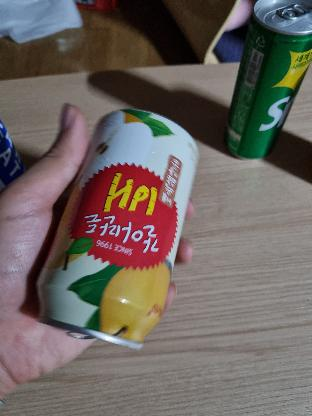Can: (29, 101, 201, 352), (222, 0, 312, 160)
